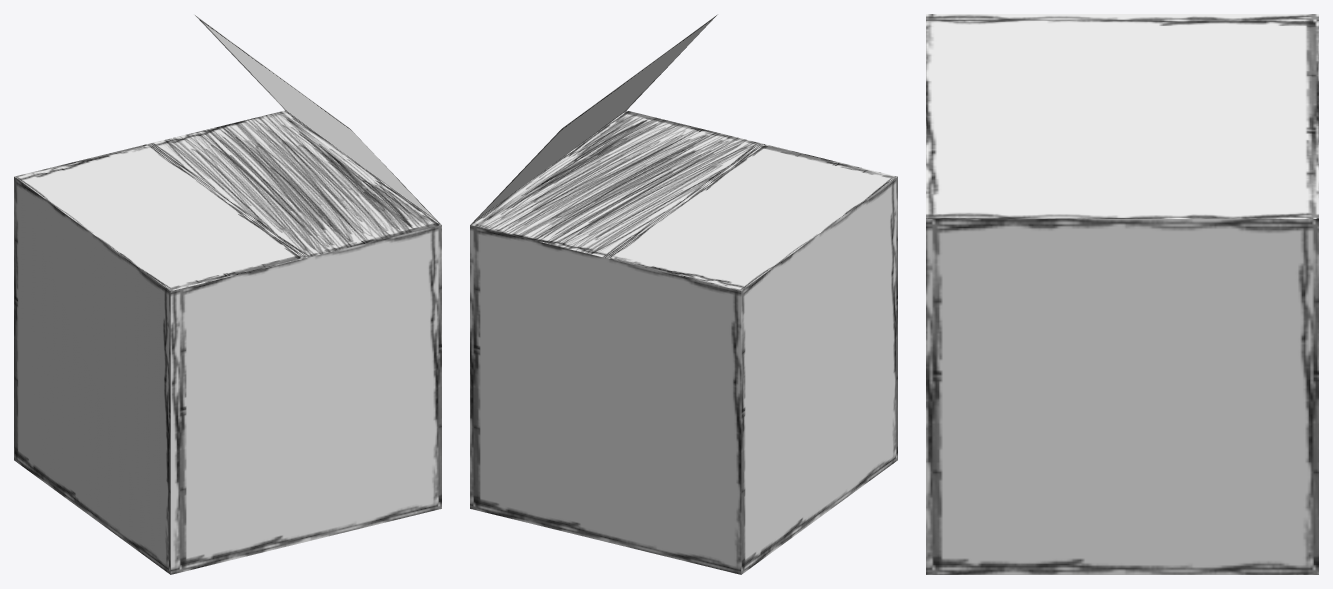
The picture shows the model from 3 angles, left to right: view 1: azimuth 30°, elevation 25°; view 2: azimuth 150°, elevation 25°; view 3: azimuth 270°, elevation 25°; orthographic projection. The views are drawn at different scales.
Parts seen in each view (by area): view 1: BoxesFront; view 2: BoxesFront; view 3: BoxesFront.
Boxes of the visible parts, x1=… form: BoxesFront: x1=14, y1=14, x2=441, y2=574; BoxesFront: x1=470, y1=14, x2=897, y2=574; BoxesFront: x1=926, y1=14, x2=1318, y2=574.
Bounding box in the file's own units: 200 × 284 × 200.
